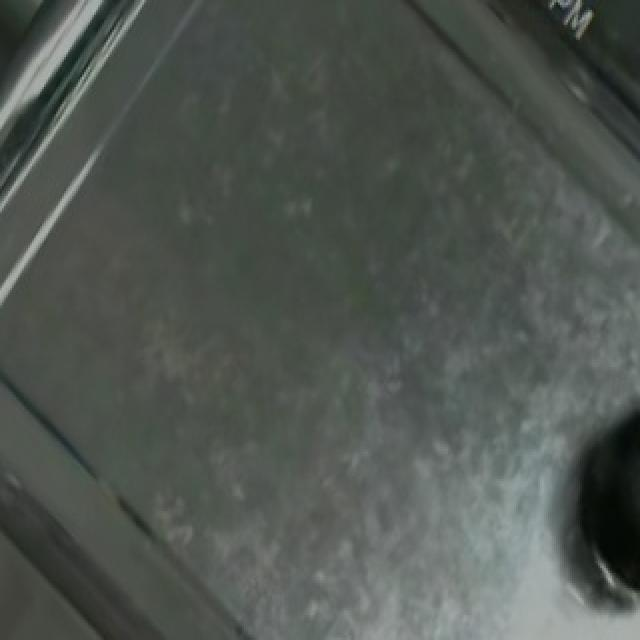Fruit: (558, 394, 640, 608)
